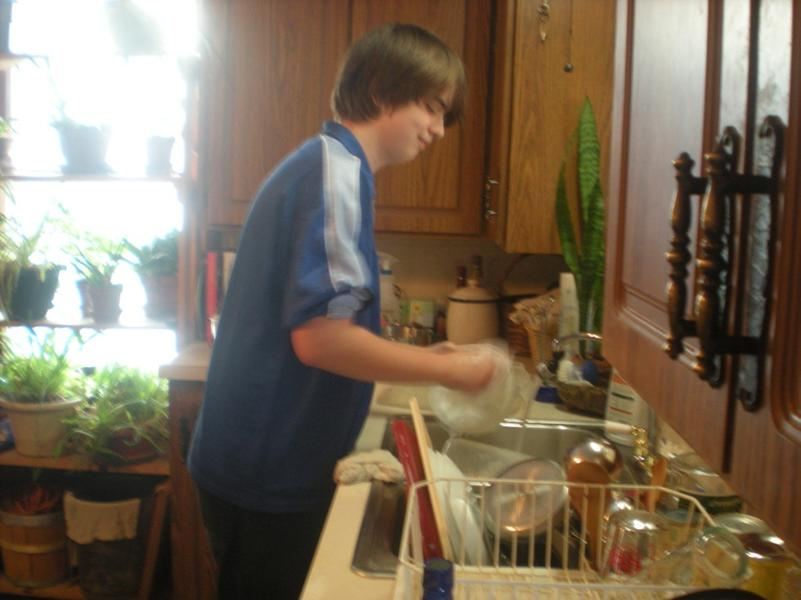person: (186, 19, 499, 599)
